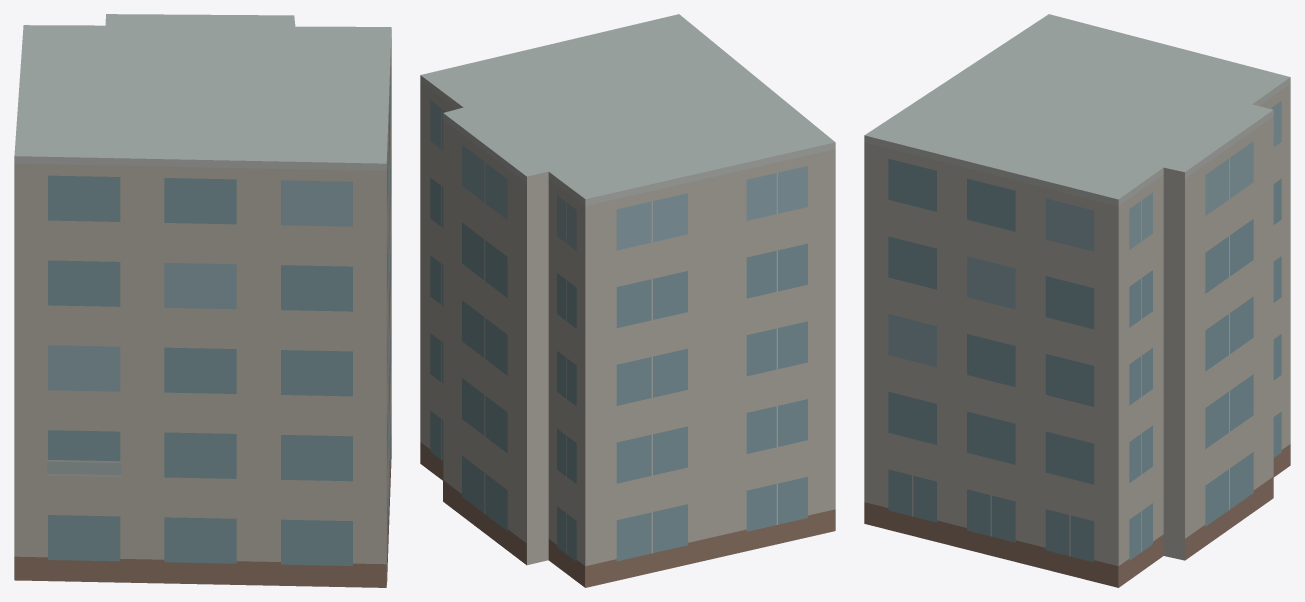
The model's file is survey-upis-32776677.glb.
3 views of the same model, side by side, from view 1: azimuth 30°, elevation 25°; view 2: azimuth 150°, elevation 25°; view 3: azimuth 270°, elevation 25° (orthographic). The views are drawn at different scales.
Visible parts, largest first — view 1: survey-upis-32776677.tmp; view 2: survey-upis-32776677.tmp; view 3: survey-upis-32776677.tmp.
Boxes of the visible parts, left/top/right/bottom form: survey-upis-32776677.tmp: left=14, top=14, right=391, bottom=587; survey-upis-32776677.tmp: left=420, top=14, right=835, bottom=587; survey-upis-32776677.tmp: left=864, top=14, right=1290, bottom=587.
Size of the model in its own units: 14.45 by 14.1 by 14.03.
